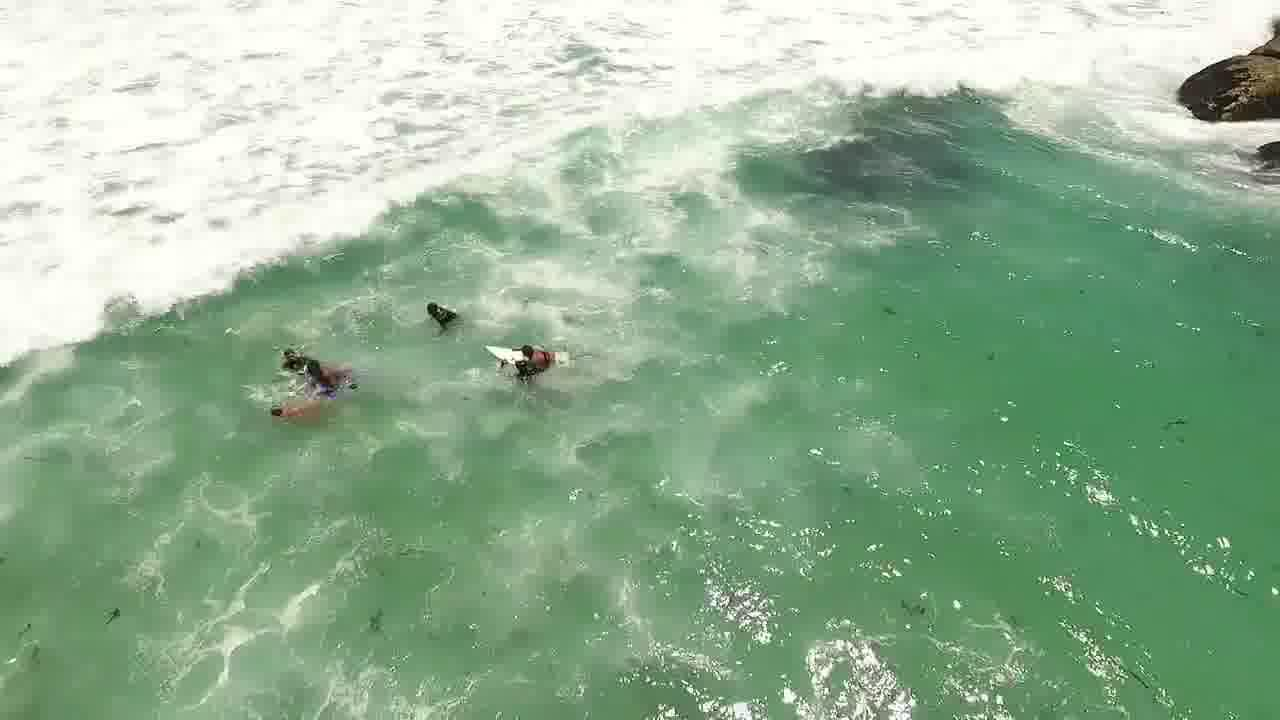swimmer: (506, 354, 546, 393), (419, 288, 457, 323), (511, 328, 548, 361), (261, 395, 299, 424), (273, 340, 301, 365), (302, 352, 330, 375)
